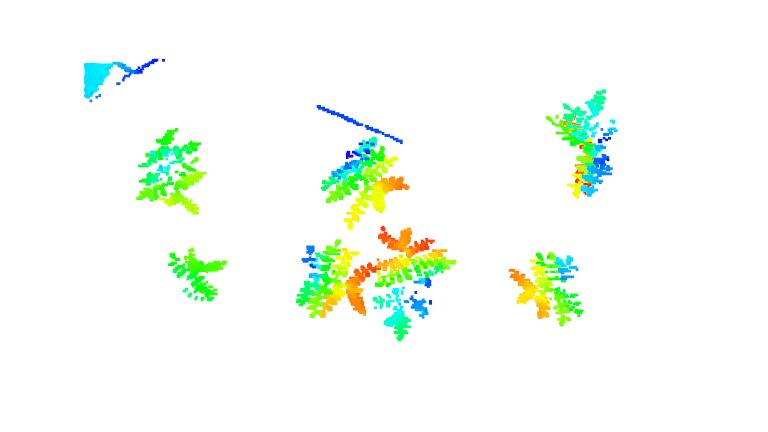chickpea: (374, 223, 456, 346), (317, 134, 411, 229), (546, 85, 616, 202), (134, 125, 210, 215), (294, 239, 377, 320), (510, 250, 585, 327), (162, 244, 229, 305)
